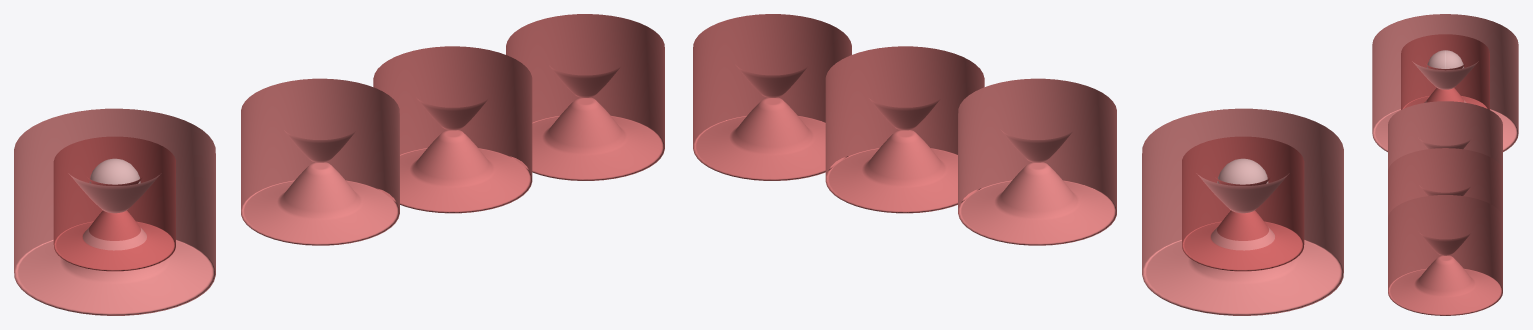
Rendered from blood-cell.glb.
3 views of the same model, side by side, from view 1: azimuth 30°, elevation 25°; view 2: azimuth 150°, elevation 25°; view 3: azimuth 270°, elevation 25° (orthographic). The views are drawn at different scales.
Visible parts, largest first — view 1: red_blood_cell, rouleau_disc_1, rouleau_disc_3, rouleau_disc_2, haemoglobin_region, central_pallor; view 2: red_blood_cell, rouleau_disc_1, rouleau_disc_3, rouleau_disc_2, haemoglobin_region, central_pallor; view 3: rouleau_disc_3, red_blood_cell, rouleau_disc_1, rouleau_disc_2, haemoglobin_region, central_pallor.
Part boxes in pixels (x1=…): red_blood_cell: x1=14, y1=108, x2=215, y2=315; rouleau_disc_1: x1=241, y1=78, x2=399, y2=245; rouleau_disc_3: x1=506, y1=14, x2=664, y2=180; rouleau_disc_2: x1=373, y1=46, x2=532, y2=213; haemoglobin_region: x1=53, y1=136, x2=175, y2=271; central_pallor: x1=89, y1=158, x2=140, y2=184; red_blood_cell: x1=1142, y1=108, x2=1343, y2=315; rouleau_disc_1: x1=958, y1=78, x2=1116, y2=245; rouleau_disc_3: x1=693, y1=14, x2=851, y2=180; rouleau_disc_2: x1=825, y1=46, x2=984, y2=213; haemoglobin_region: x1=1182, y1=136, x2=1304, y2=271; central_pallor: x1=1217, y1=158, x2=1268, y2=184; rouleau_disc_3: x1=1388, y1=195, x2=1502, y2=315; red_blood_cell: x1=1372, y1=14, x2=1518, y2=151; rouleau_disc_1: x1=1388, y1=101, x2=1502, y2=170; rouleau_disc_2: x1=1388, y1=148, x2=1502, y2=216; haemoglobin_region: x1=1401, y1=34, x2=1489, y2=109; central_pallor: x1=1427, y1=50, x2=1463, y2=68.
Bounding box in the file's own units: 1.9 × 0.3528 × 0.5292.
